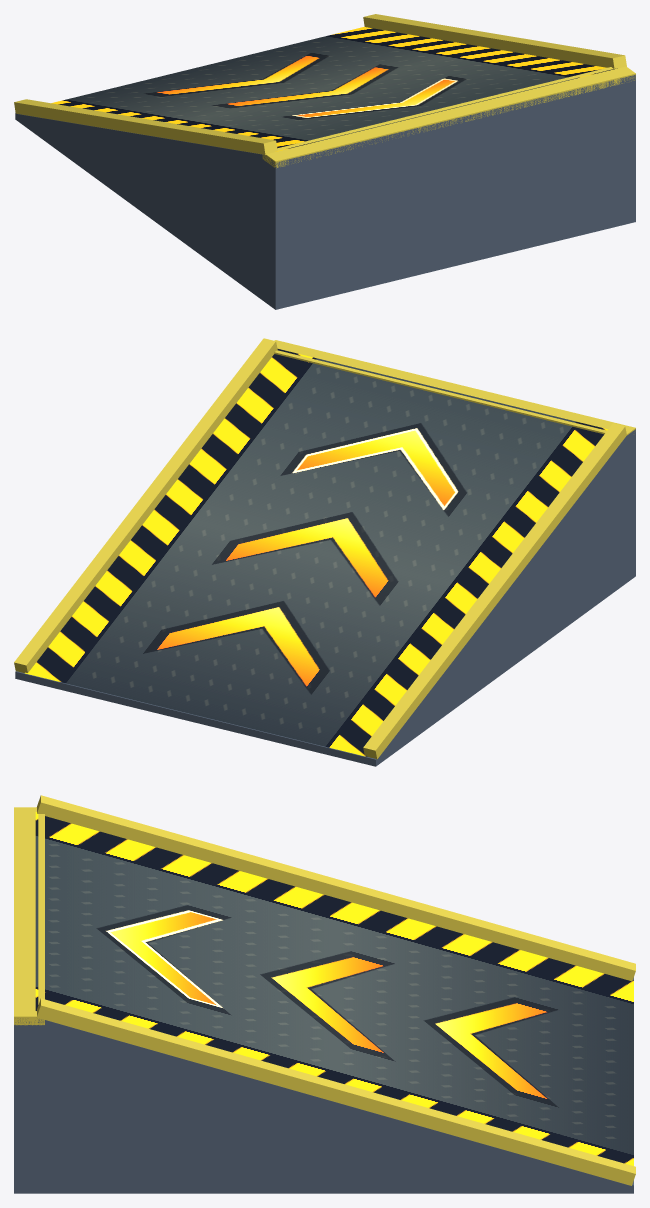
The model's file is prop_ramp.glb.
3 renders of one model, top to bottom at view 1: azimuth 30°, elevation 25°; view 2: azimuth 150°, elevation 25°; view 3: azimuth 270°, elevation 25°, orthographic. The views are drawn at different scales.
Parts seen in each view (by area): view 1: Prop_ramp, RampDeck; view 2: RampDeck, Prop_ramp; view 3: RampDeck, Prop_ramp.
Part boxes in pixels (x1,y1,x2,y2): Prop_ramp: (14, 14, 635, 309); RampDeck: (51, 26, 617, 151); RampDeck: (25, 349, 607, 756); Prop_ramp: (14, 338, 635, 766); RampDeck: (35, 812, 633, 1165); Prop_ramp: (14, 795, 635, 1193).
Bounding box in the file's own units: 3.21 × 1.34 × 4.01.
Materials: 3 (1 with a texture image).
